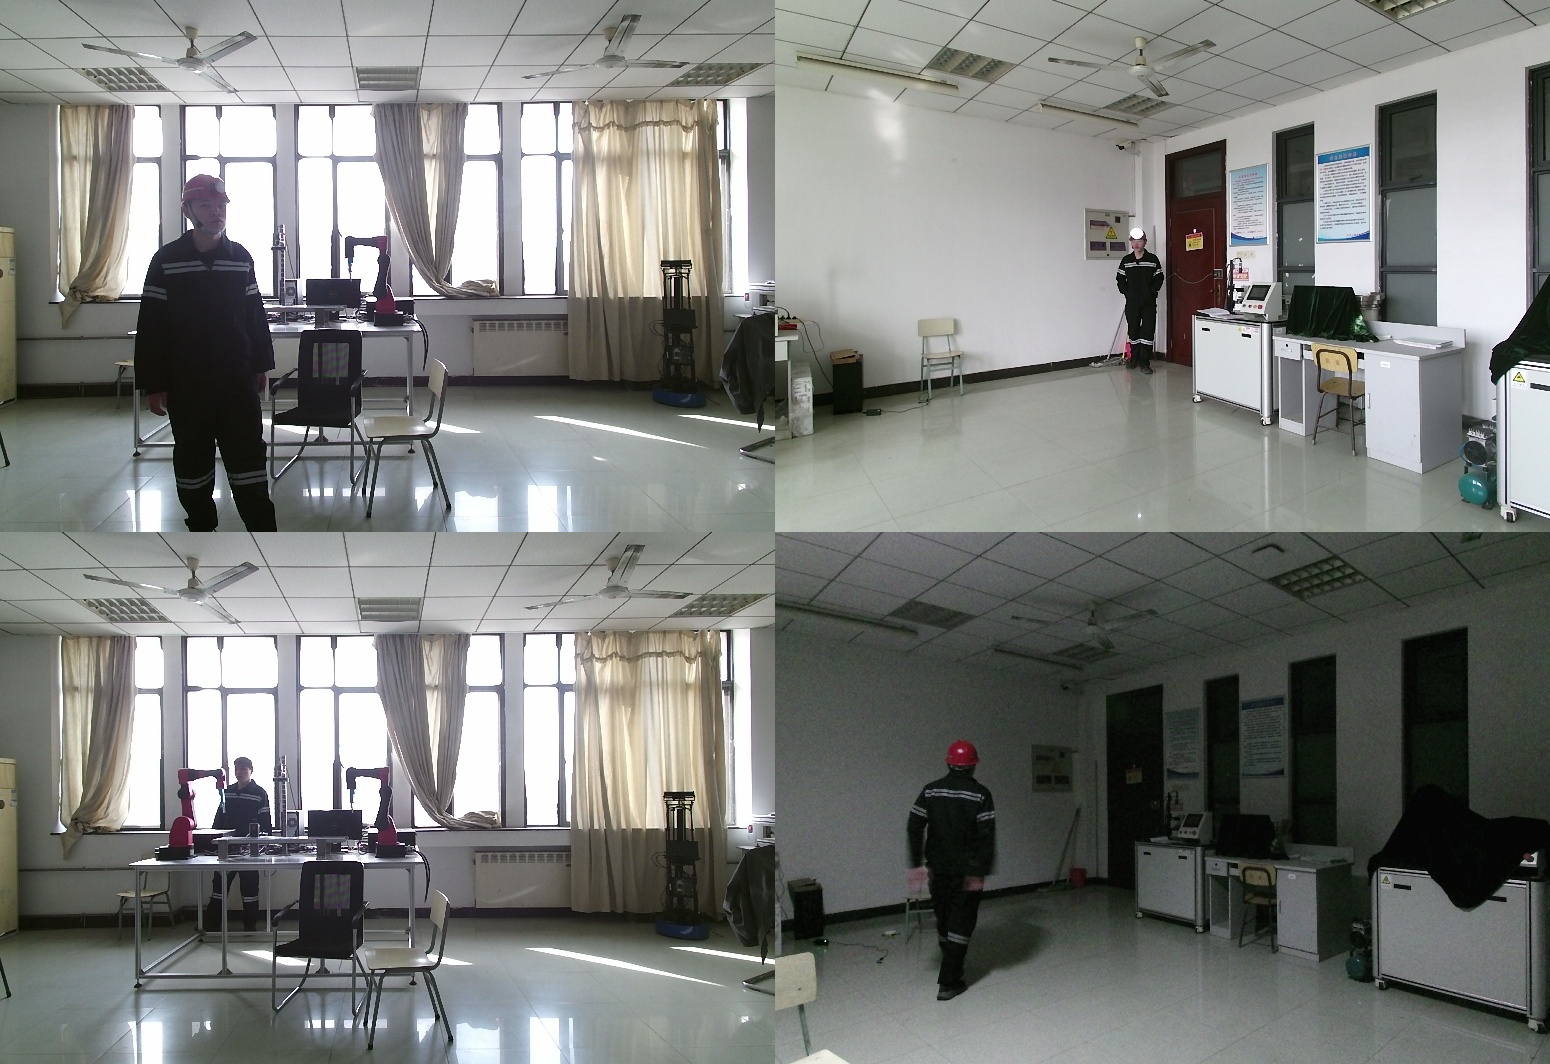person: (139, 176, 293, 532), (904, 740, 1007, 1001), (199, 758, 272, 946), (1117, 233, 1162, 371)
